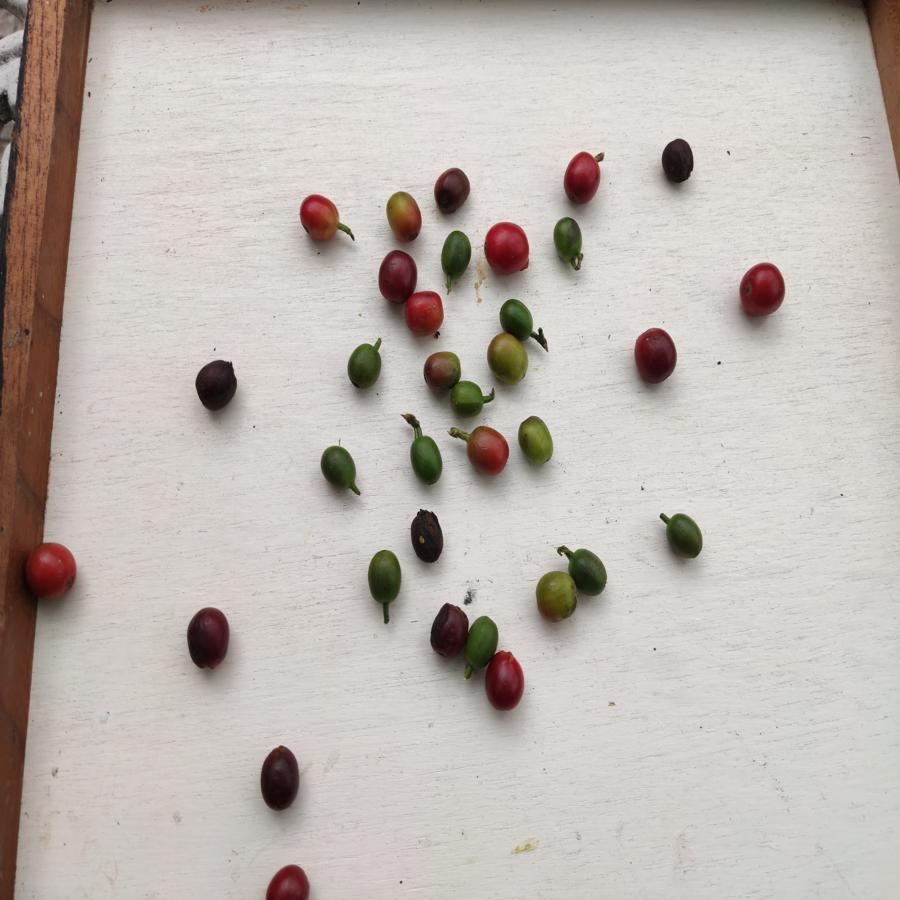Inmaduro: (364, 548, 402, 603), (518, 414, 556, 468), (662, 508, 702, 559), (345, 341, 383, 391), (410, 430, 444, 485), (567, 548, 608, 593), (463, 613, 498, 665), (438, 228, 474, 278), (494, 297, 537, 338), (320, 445, 358, 490), (552, 216, 587, 263), (451, 379, 484, 417)
Maduro: (23, 542, 78, 603), (738, 261, 786, 319), (485, 221, 531, 276), (484, 651, 524, 713), (562, 152, 603, 206), (298, 193, 340, 243), (265, 863, 315, 900), (407, 293, 445, 341)
Pinton: (534, 569, 576, 622), (380, 192, 423, 242), (488, 335, 528, 384), (422, 351, 460, 388)
Sobremaduro: (258, 743, 300, 812), (185, 606, 229, 670), (633, 328, 679, 388), (194, 357, 241, 413), (406, 505, 448, 564), (429, 602, 467, 659), (433, 166, 471, 215), (380, 253, 414, 305), (661, 135, 695, 186)
